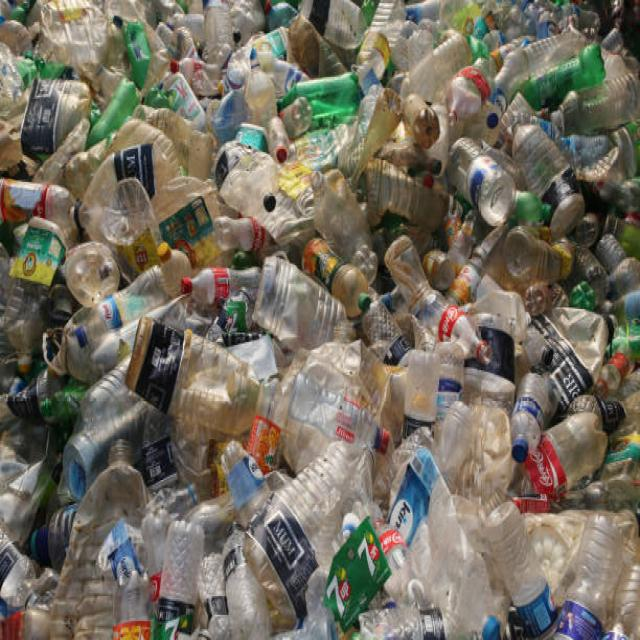plastic: (21, 27, 621, 599)
